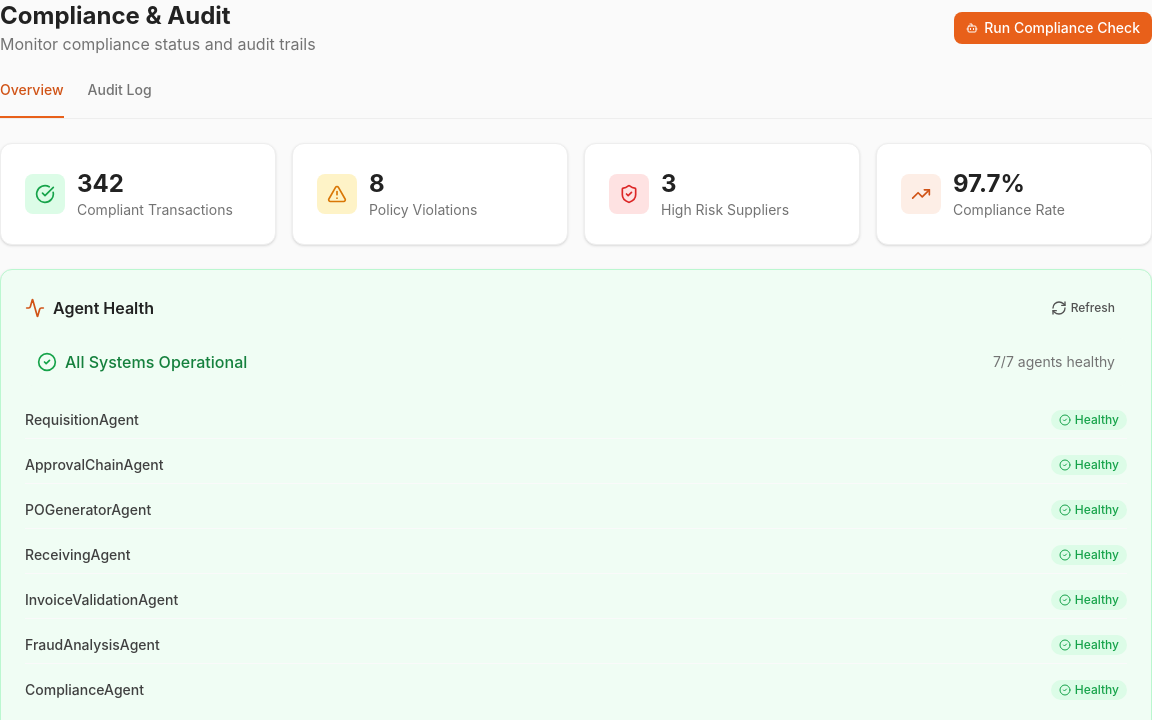
it: ComplianceView › switches to audit log tab when clicked
Check: the text "Compliant Transactions" is shown, box [77,200,233,220]
Click the button "Audit Log" at (120, 99), box [88,80,152,118]
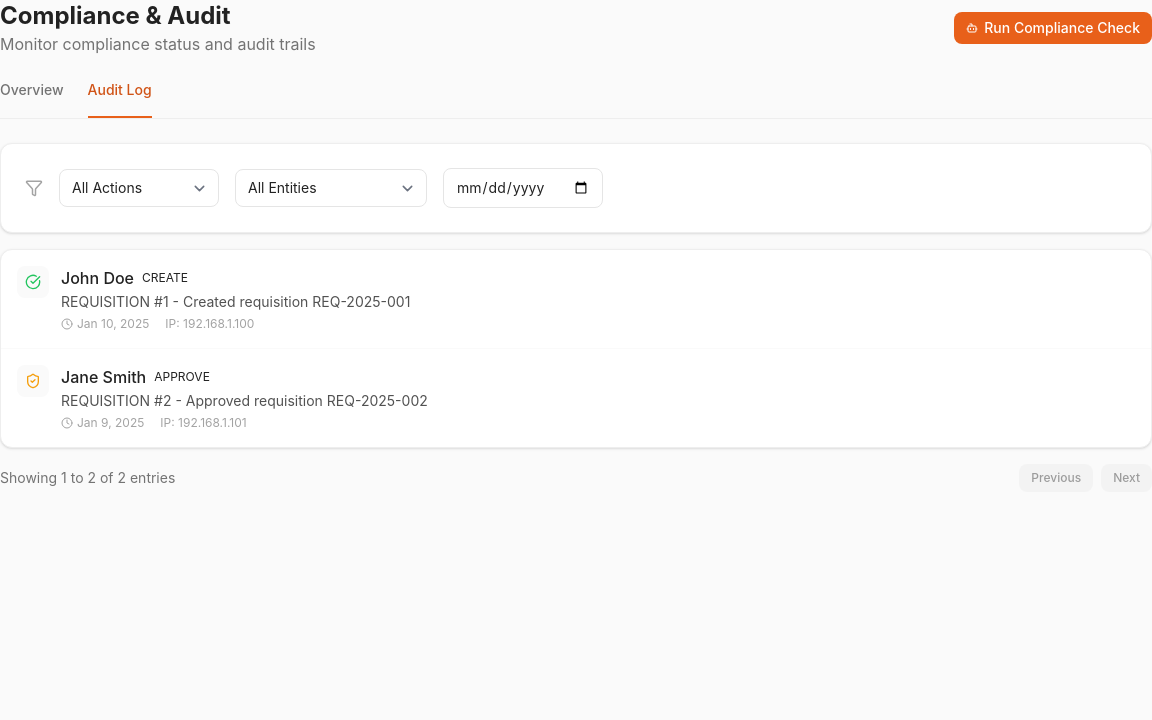
Check: the text "REQUISITION #1 - Created requisition REQ-2025-001" is shown, box [61,293,410,310]
Check: the text "REQUISITION #2 - Approved requisition REQ-2025-002" is shown, box [61,392,428,409]
